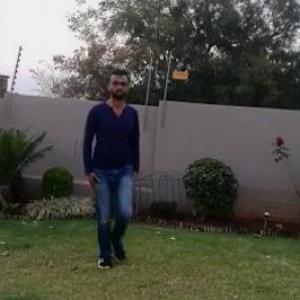follow: (86, 66, 141, 270)
